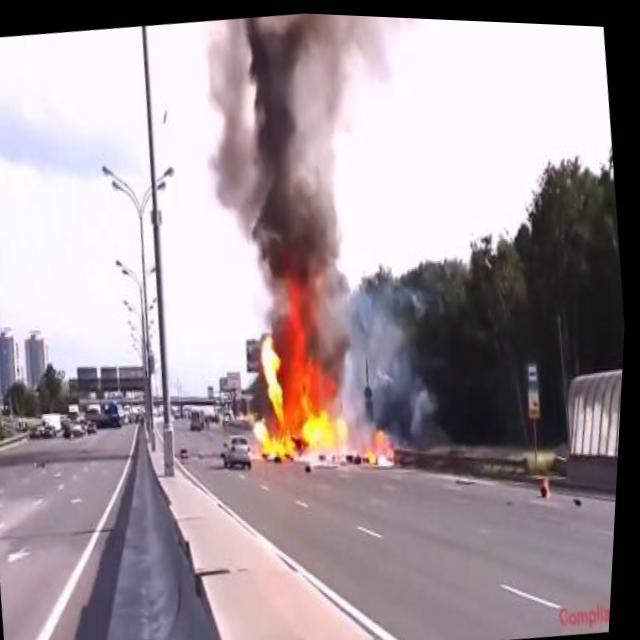fire: (239, 298, 407, 486)
